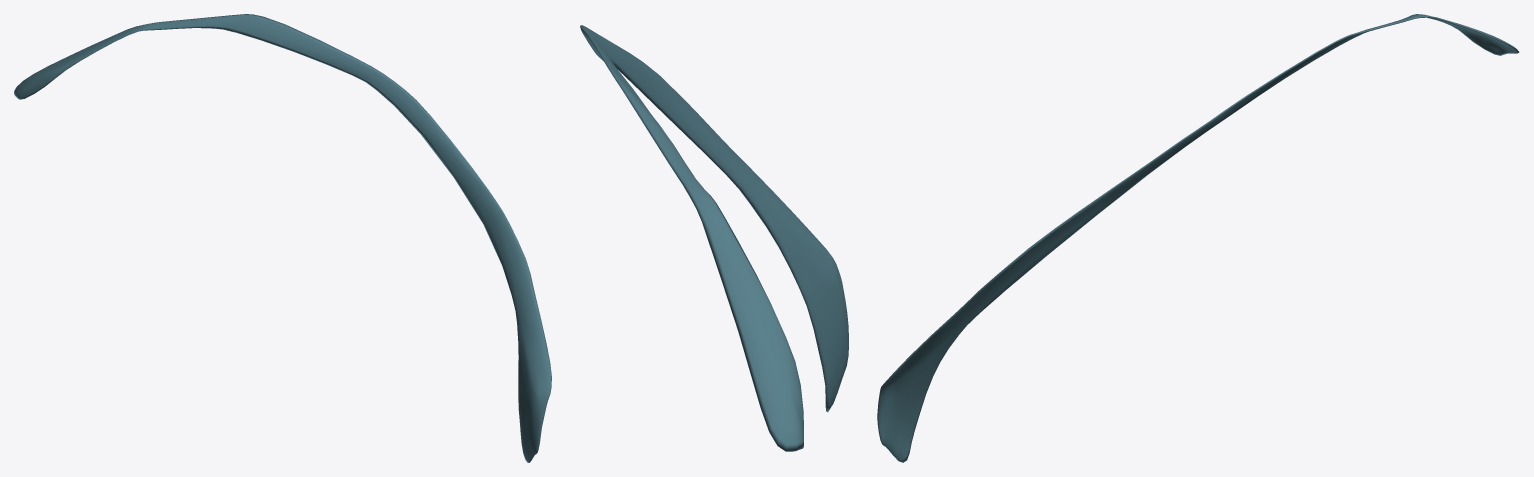
Rendered from Transverse_abdominal_muscle-Iliac_insertion.l_Generated_Mesh_Fr.glb.
3 views of the same model, side by side, from view 1: azimuth 30°, elevation 25°; view 2: azimuth 150°, elevation 25°; view 3: azimuth 270°, elevation 25° (orthographic). The views are drawn at different scales.
Parts seen in each view (by area): view 1: Transverse_abdominal_muscle-Iliac_insertion.l_Generated_Mesh; view 2: Transverse_abdominal_muscle-Iliac_insertion.l_Generated_Mesh; view 3: Transverse_abdominal_muscle-Iliac_insertion.l_Generated_Mesh.
Boxes of the visible parts, x1,y1,x2,y2 form: Transverse_abdominal_muscle-Iliac_insertion.l_Generated_Mesh: (14,14,551,462); Transverse_abdominal_muscle-Iliac_insertion.l_Generated_Mesh: (580,25,848,451); Transverse_abdominal_muscle-Iliac_insertion.l_Generated_Mesh: (877,14,1519,462).
Bounding box in the file's own units: 0.0661 × 0.0736 × 0.1133.
